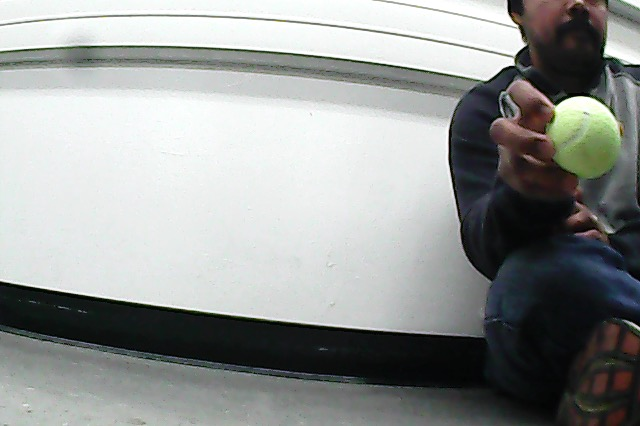ball: (545, 94, 626, 183)
